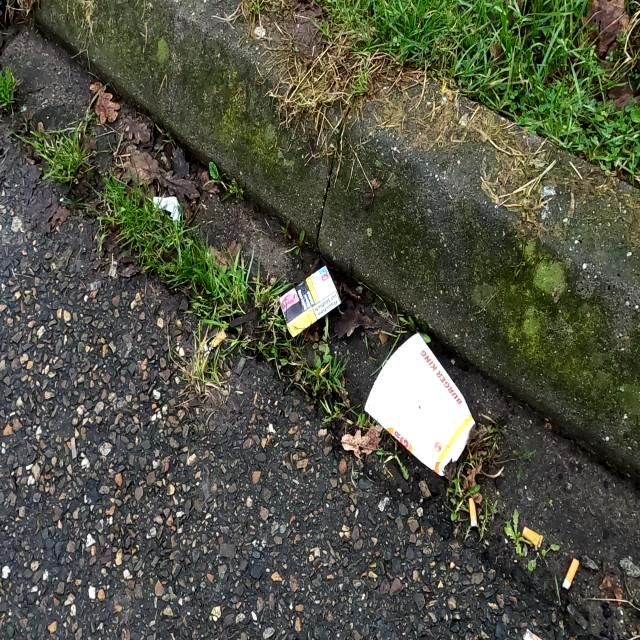Coffee Cup: (362, 328, 478, 480)
Paper: (276, 260, 344, 340), (152, 194, 182, 222)
